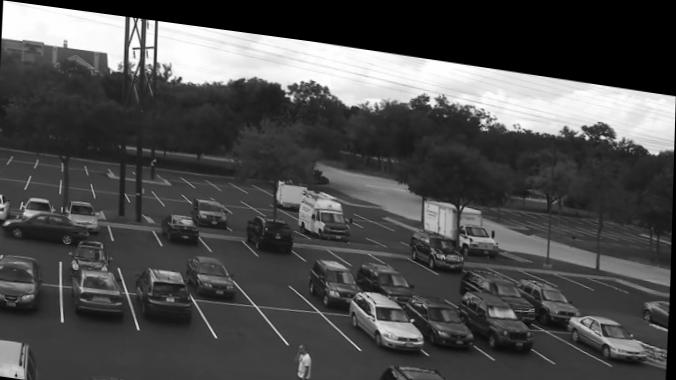empty: (265, 301, 356, 342), (532, 313, 609, 351), (198, 296, 276, 331), (239, 263, 318, 297), (110, 219, 166, 241), (9, 237, 58, 261), (332, 238, 386, 256), (378, 243, 435, 260), (125, 249, 168, 270), (205, 230, 255, 248), (423, 268, 465, 288), (345, 203, 391, 218), (297, 233, 342, 248), (559, 259, 614, 270), (26, 180, 63, 196), (493, 253, 539, 265), (530, 258, 580, 269), (127, 190, 169, 202), (62, 183, 95, 198), (159, 165, 192, 180), (91, 187, 132, 199), (0, 176, 30, 191), (0, 166, 32, 180), (120, 180, 156, 192), (62, 159, 91, 173), (229, 209, 257, 223), (227, 199, 266, 209), (151, 181, 186, 192), (259, 200, 297, 210), (85, 160, 114, 173), (189, 172, 220, 184), (181, 182, 214, 193), (31, 171, 63, 182), (93, 176, 125, 187), (62, 175, 96, 185), (214, 186, 248, 196), (38, 155, 64, 168), (14, 154, 36, 167), (151, 205, 174, 217), (243, 189, 277, 197), (160, 192, 193, 200), (215, 175, 244, 184), (239, 177, 270, 185), (0, 185, 20, 197), (0, 154, 11, 163)
occupied: (341, 279, 427, 339), (459, 277, 535, 335), (404, 283, 481, 337), (133, 261, 201, 319), (569, 298, 649, 345), (73, 264, 128, 314), (299, 181, 352, 232), (413, 217, 470, 263), (357, 251, 417, 294), (522, 264, 579, 309), (0, 251, 43, 310), (310, 251, 363, 297), (463, 256, 532, 290), (189, 249, 243, 292), (377, 352, 458, 380), (0, 338, 46, 380), (247, 209, 295, 248), (163, 208, 199, 241), (194, 192, 231, 222), (69, 238, 108, 266), (68, 199, 101, 229), (24, 196, 56, 226), (646, 282, 671, 310), (84, 372, 145, 380), (0, 193, 11, 225)
